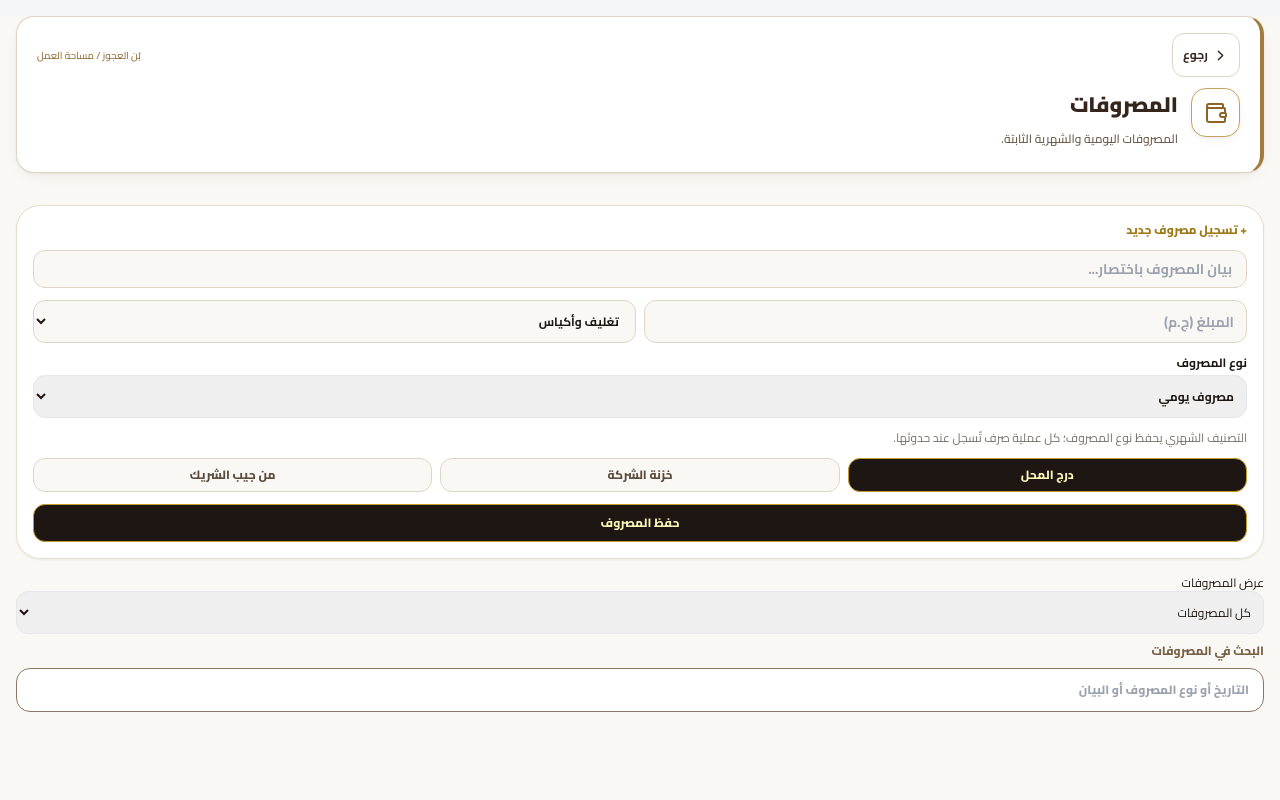
Test: keeps a rejected expense editable and assigns its Cairo business date
The image size is (1280, 800).
Type "Test expense" into the field with placeholder "بيان المصروف باختصار...". click: (640, 269)
box: [33,250,1247,288]
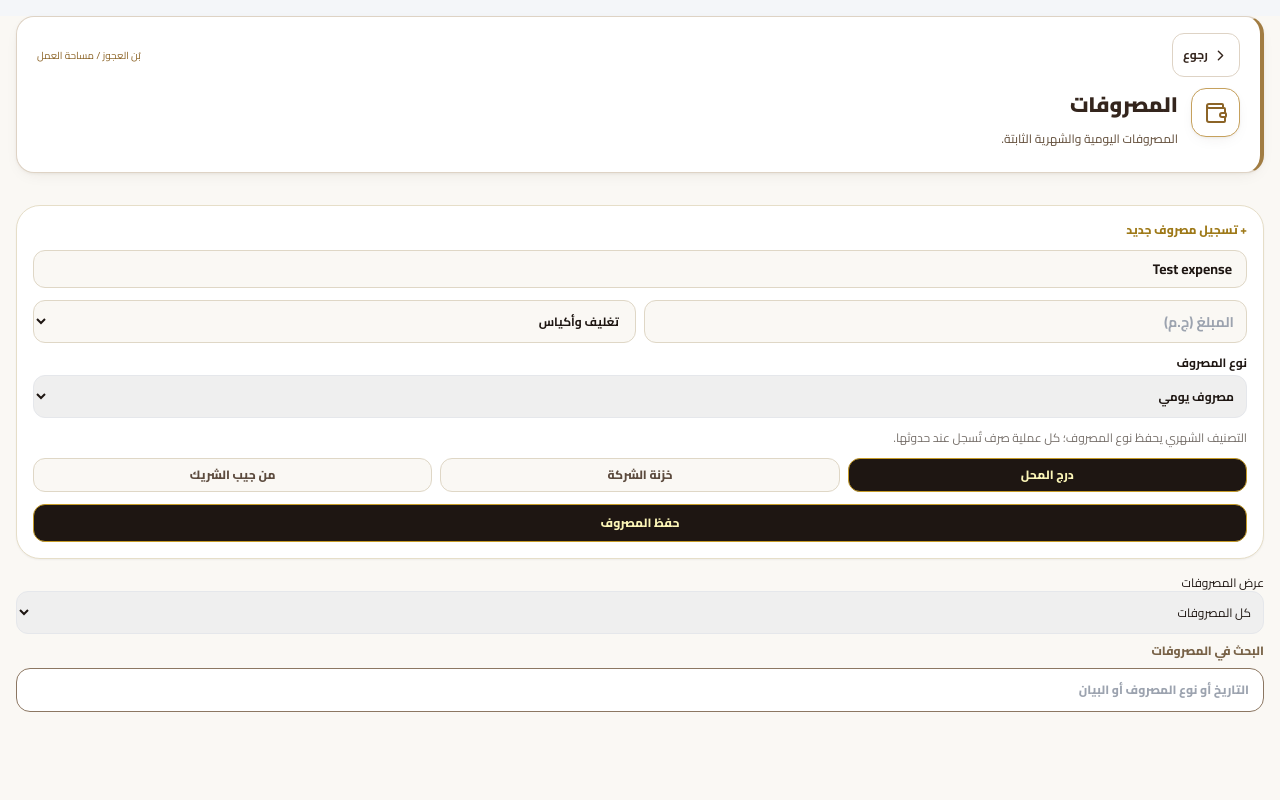
Type "50" into the number field with placeholder "المبلغ (ج.م)". click: (946, 322)
box: [644,300,1247,343]
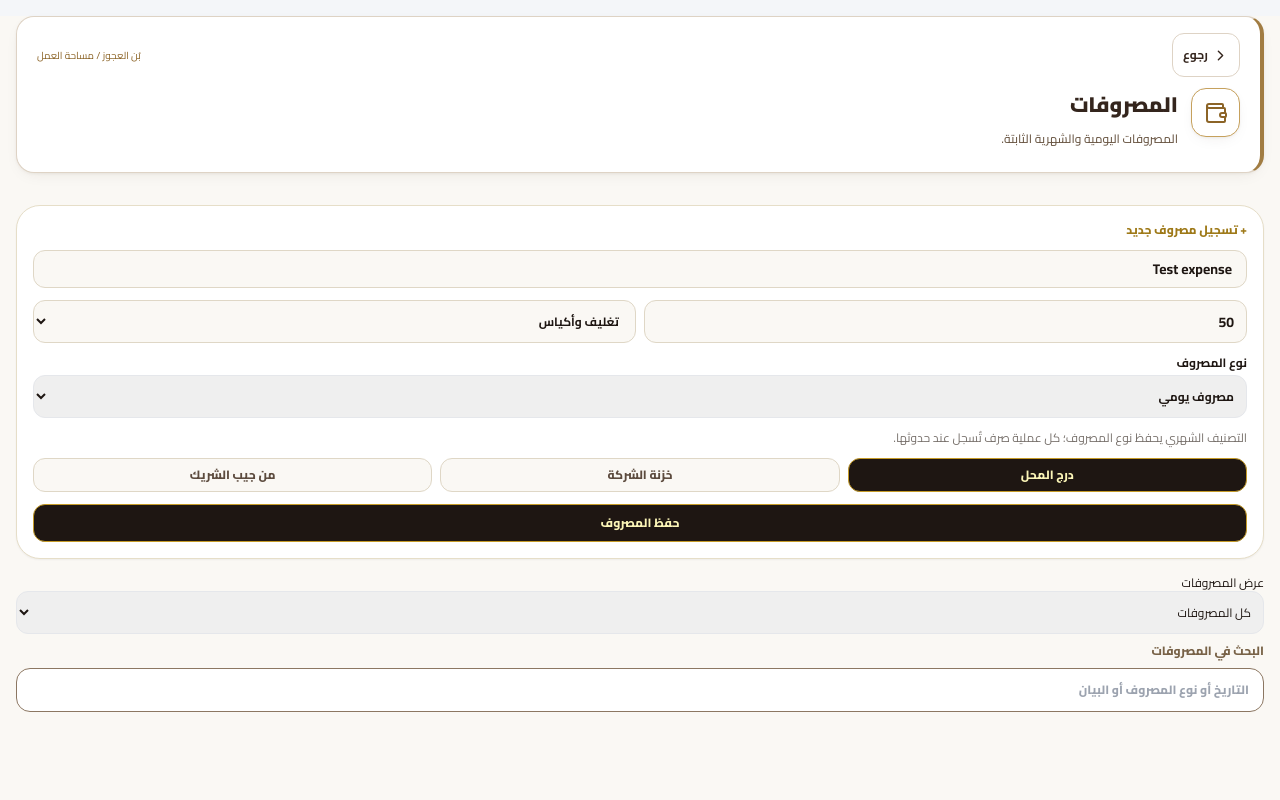
Click the button "حفظ المصروف". click: click(640, 523)
box: [33,504,1247,542]
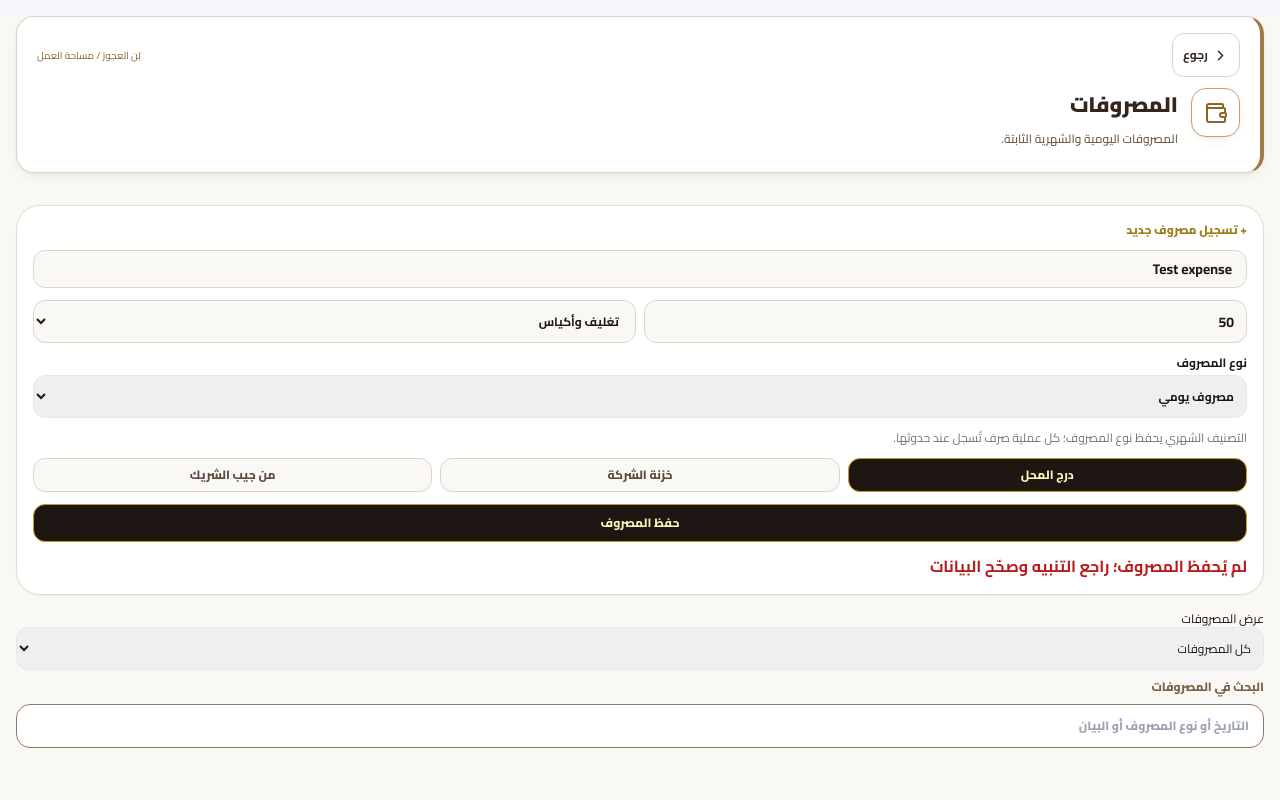
Check: the message shows "لم يُحفظ", box [930,551,1247,581]
